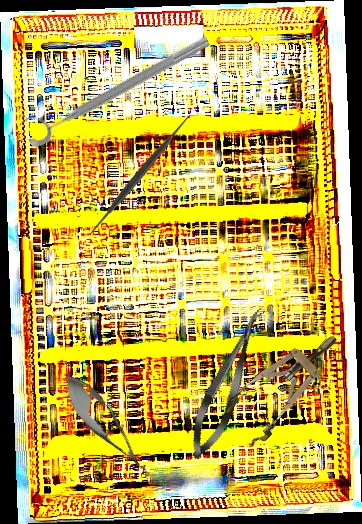Fixation Ring: (17, 21, 214, 150)
Micro Scissor: (180, 301, 275, 465), (51, 364, 164, 490)
Spatula Surgical: (81, 115, 200, 234)
Speculum: (218, 318, 355, 450)
